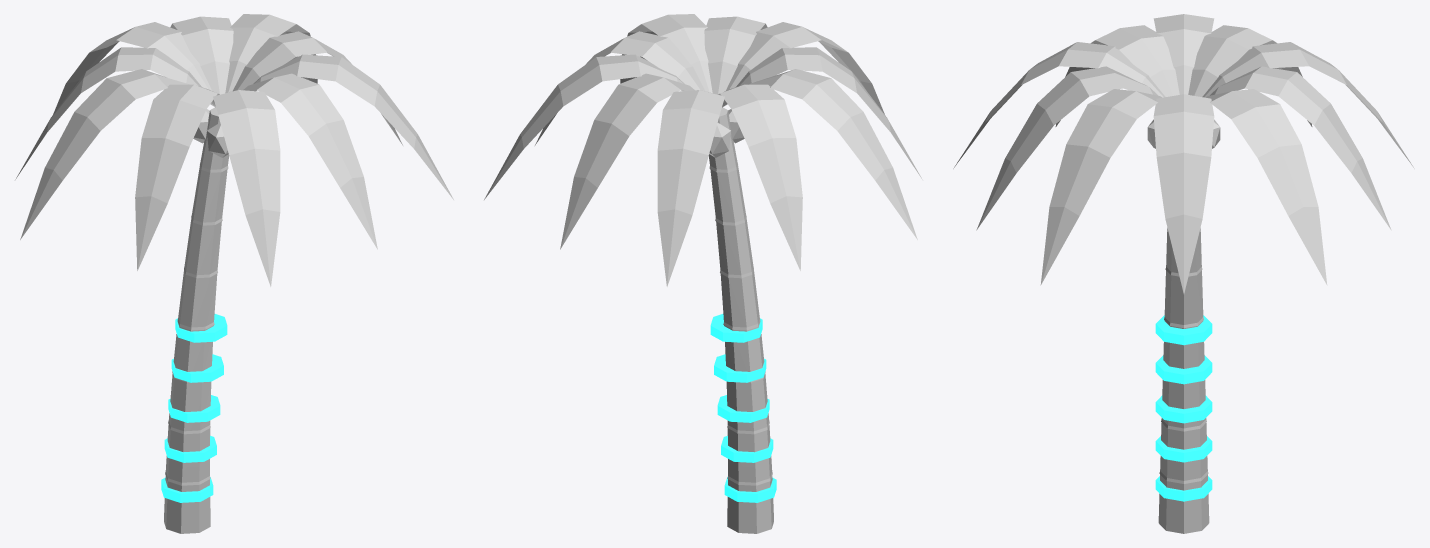
3 renders of one model, left to right at view 1: azimuth 30°, elevation 25°; view 2: azimuth 150°, elevation 25°; view 3: azimuth 270°, elevation 25°, orthographic. The views are drawn at different scales.
Parts seen in each view (by area): view 1: Neon_CyberPalm_Standard; view 2: Neon_CyberPalm_Standard; view 3: Neon_CyberPalm_Standard.
Boxes of the visible parts, x1,y1,x2,y2 form: Neon_CyberPalm_Standard: (15, 14, 453, 533); Neon_CyberPalm_Standard: (484, 14, 922, 533); Neon_CyberPalm_Standard: (953, 14, 1414, 533).
Size of the model in its own units: 3.28 by 3.74 by 3.29.
